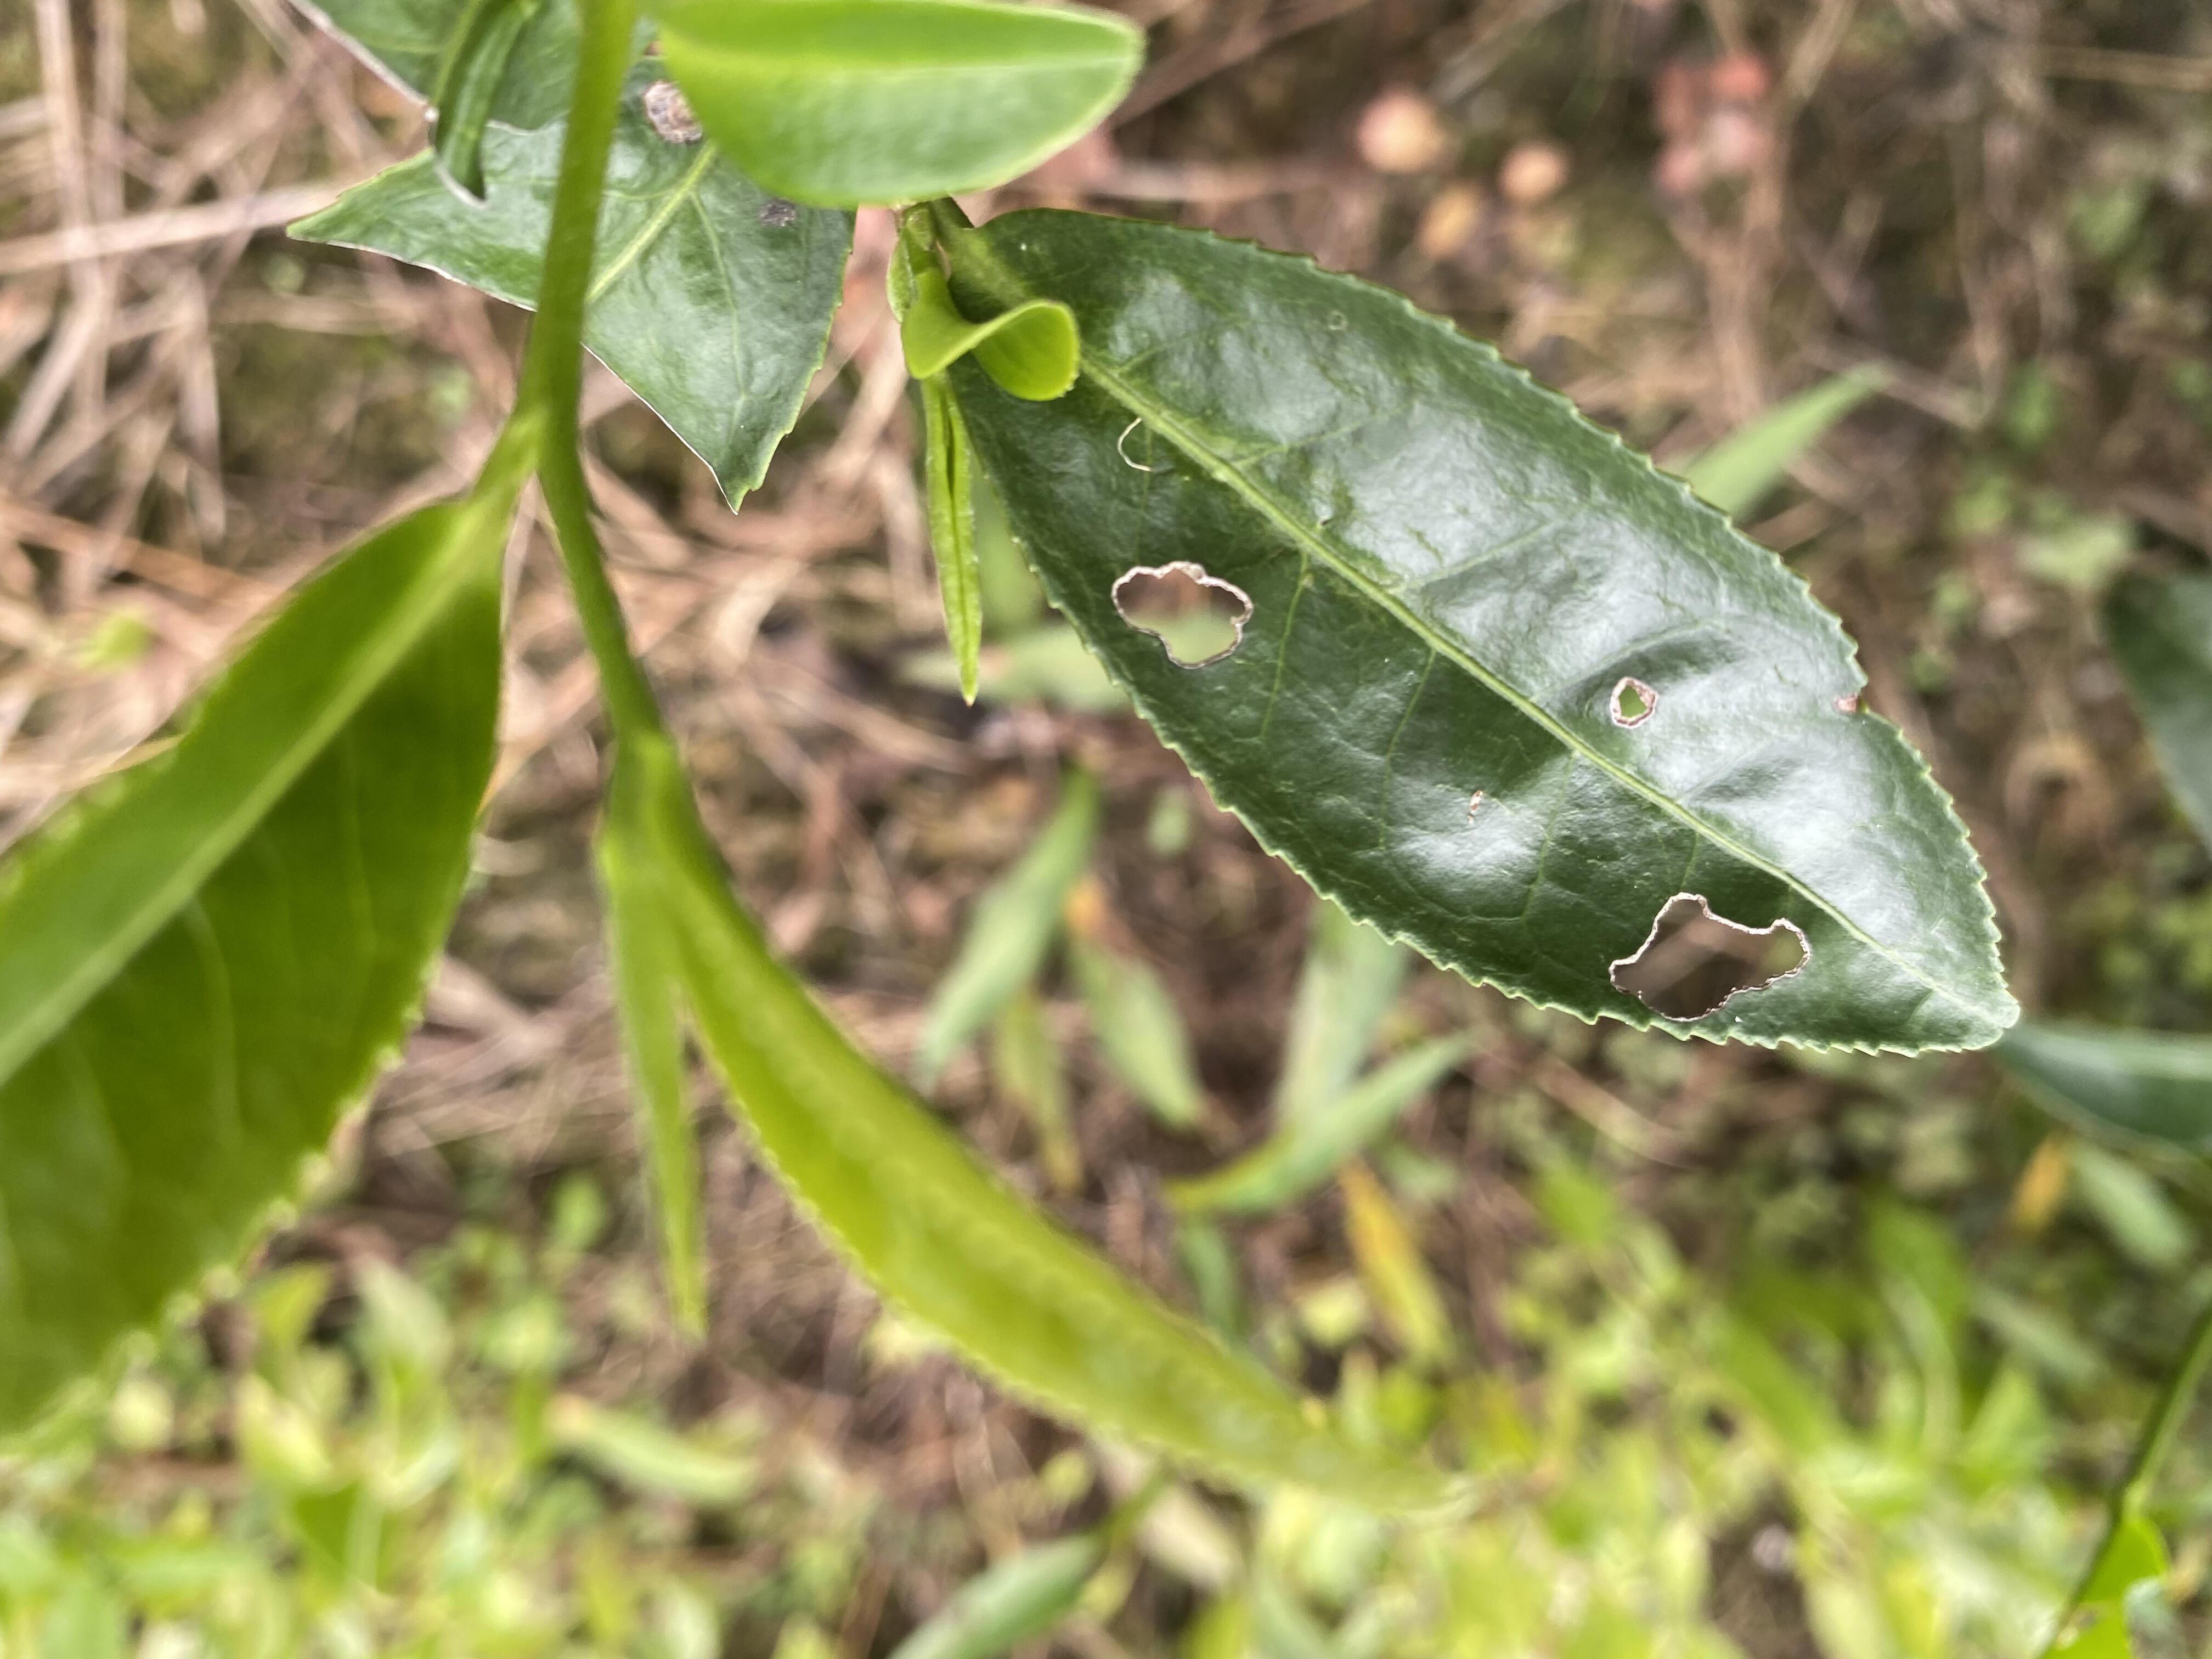chihuo_high: (948, 206, 2022, 1061), (284, 66, 860, 519)
